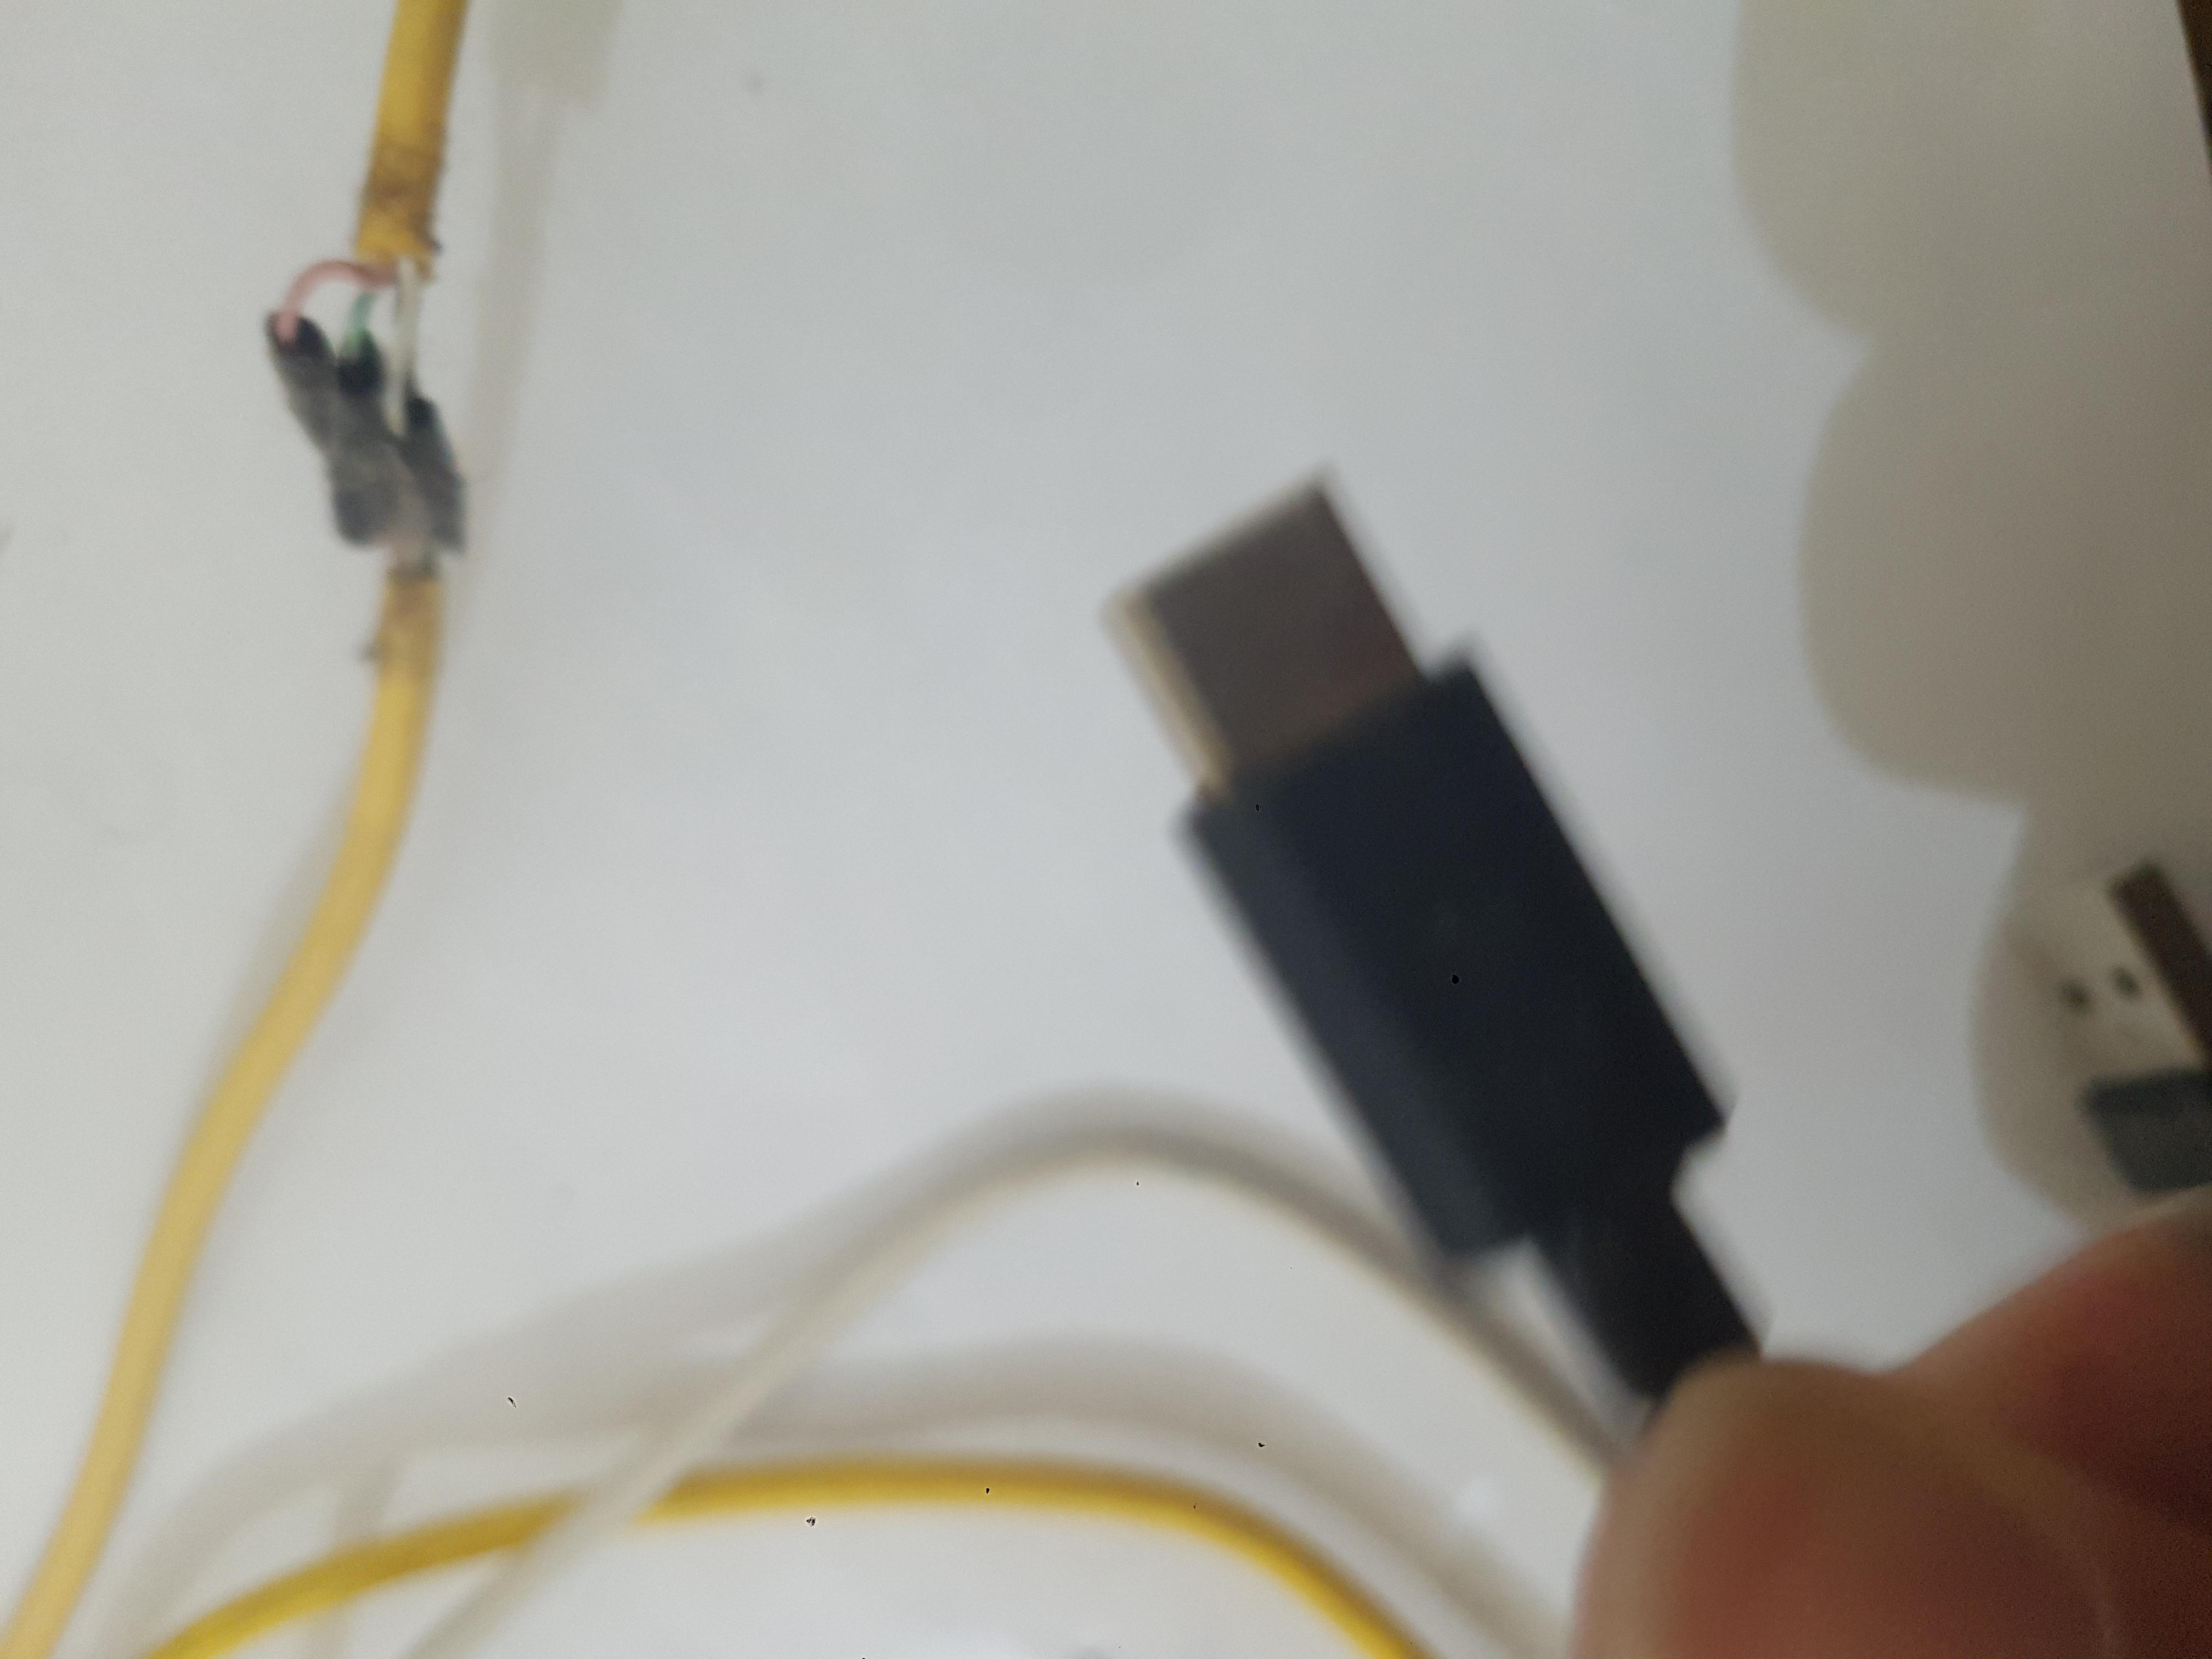electronic: (1092, 458, 1829, 1417)
